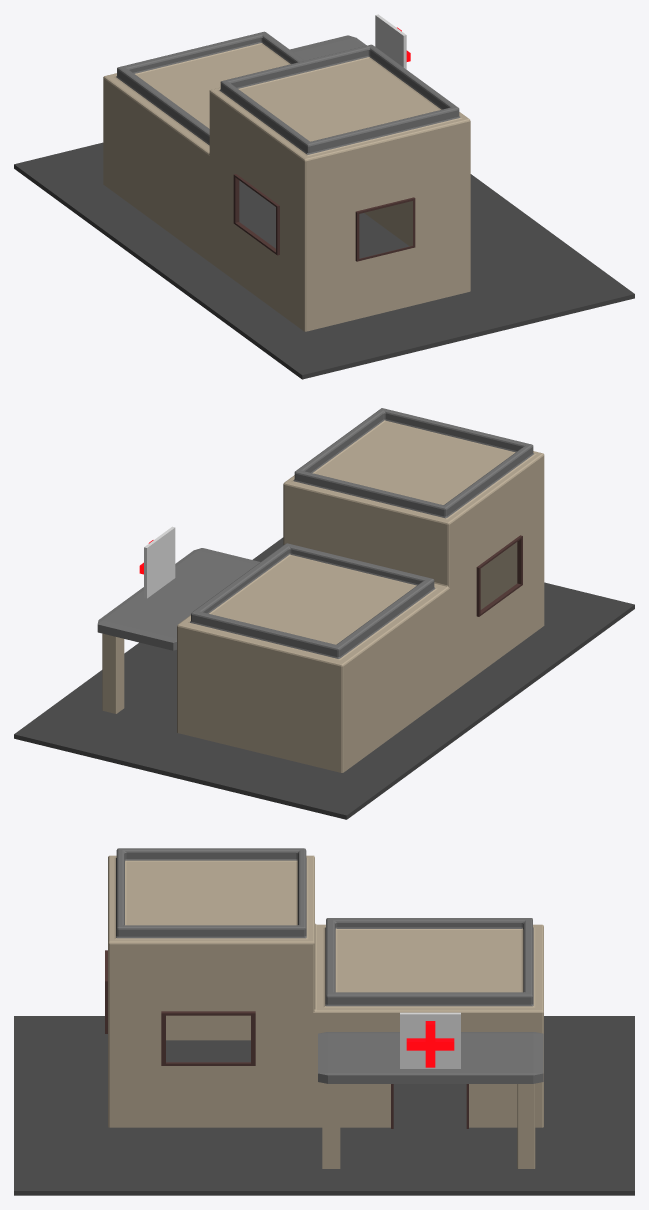
The model's file is ziekenhuis.fbx.
3 renders of one model, top to bottom at view 1: azimuth 30°, elevation 25°; view 2: azimuth 150°, elevation 25°; view 3: azimuth 270°, elevation 25°, orthographic. The views are drawn at different scales.
Visible parts, largest first — view 1: Cube, Cube.002, Cube.007, Cube.001, Cube.006, Cube.005; view 2: Cube, Cube.002, Cube.001, Cube.003, Cube.007, Cube.006; view 3: Cube, Cube.002, Cube.001, Cube.007, Cube.004, Cube.003, Window, Cube.008.
Part boxes in pixels (x1=…): Cube: x1=103, y1=31, x2=470, y2=331; Cube.002: x1=14, y1=142, x2=634, y2=379; Cube.007: x1=375, y1=14, x2=406, y2=69; Cube.001: x1=290, y1=35, x2=366, y2=60; Cube.006: x1=233, y1=174, x2=279, y2=255; Cube.005: x1=355, y1=197, x2=415, y2=261; Cube: x1=177, y1=408, x2=544, y2=772; Cube.002: x1=14, y1=537, x2=634, y2=819; Cube.001: x1=97, y1=548, x2=260, y2=650; Cube.003: x1=102, y1=633, x2=124, y2=713; Cube.007: x1=144, y1=526, x2=175, y2=598; Cube.006: x1=476, y1=535, x2=522, y2=616; Cube: x1=108, y1=848, x2=543, y2=1127; Cube.002: x1=14, y1=1016, x2=634, y2=1195; Cube.001: x1=318, y1=1032, x2=543, y2=1083; Cube.007: x1=400, y1=1012, x2=460, y2=1068; Cube.004: x1=322, y1=1083, x2=340, y2=1168; Cube.003: x1=517, y1=1083, x2=535, y2=1168; Window: x1=161, y1=1011, x2=255, y2=1065; Cube.008: x1=406, y1=1038, x2=454, y2=1050.
Size of the model in its own units: 400 by 214 by 600.
